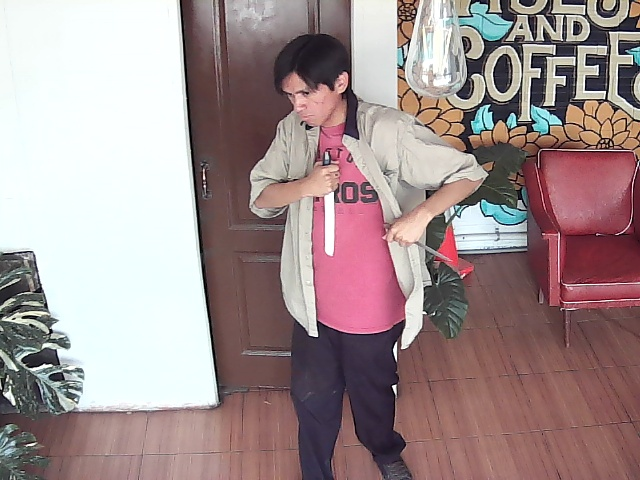cuchillo: (312, 143, 340, 262)
